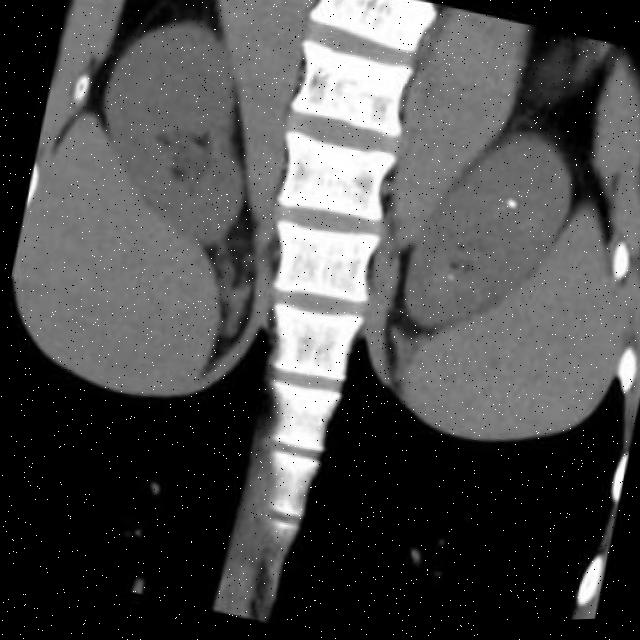Tas_Var: (497, 197, 519, 218), (441, 274, 454, 290)
